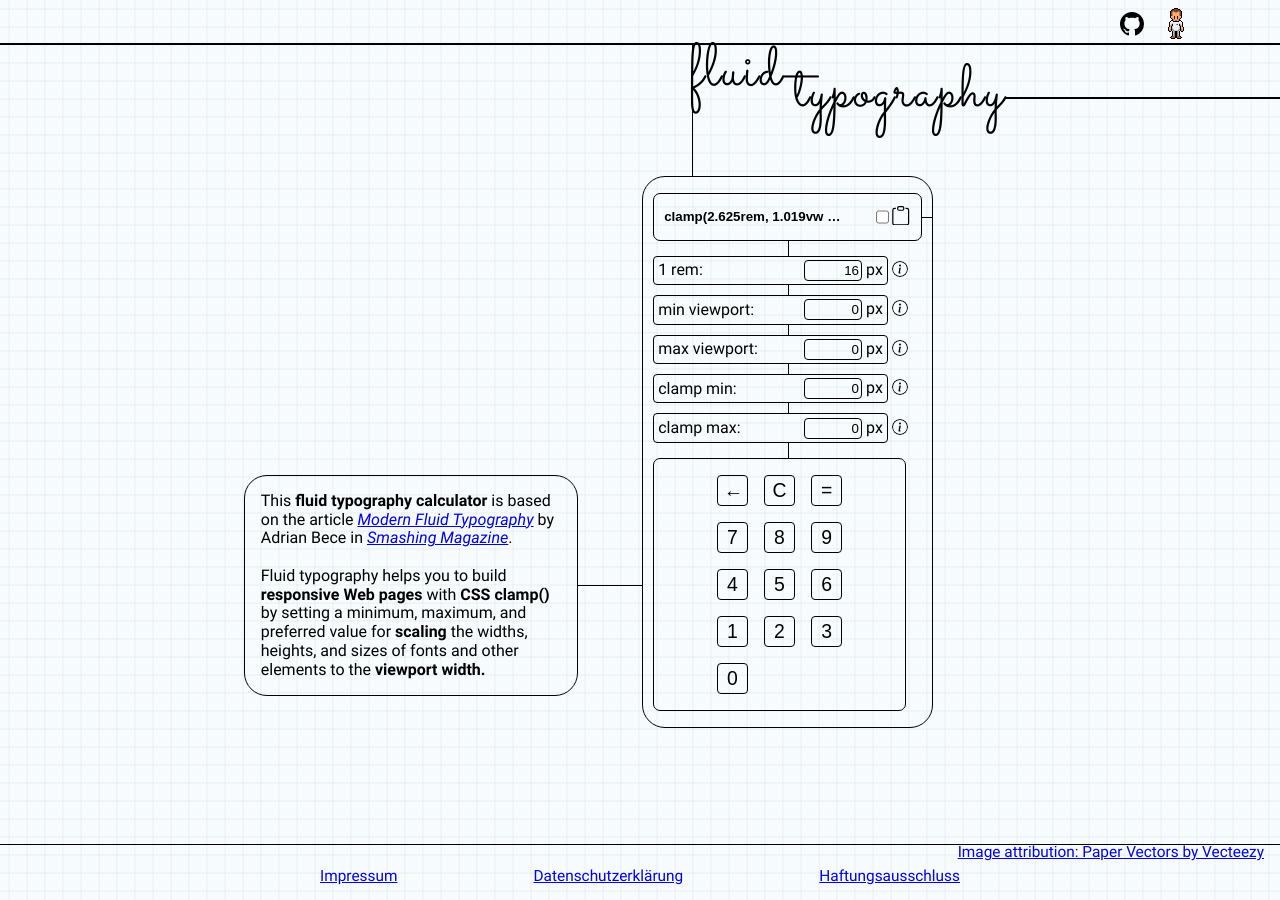
it: tests ResultDisplay component › tests that the result displayed is correct when equals button is clicked
In the field labelled "min viewport:": (833, 310) top-left (804, 299), bottom-right (862, 320), type "375"
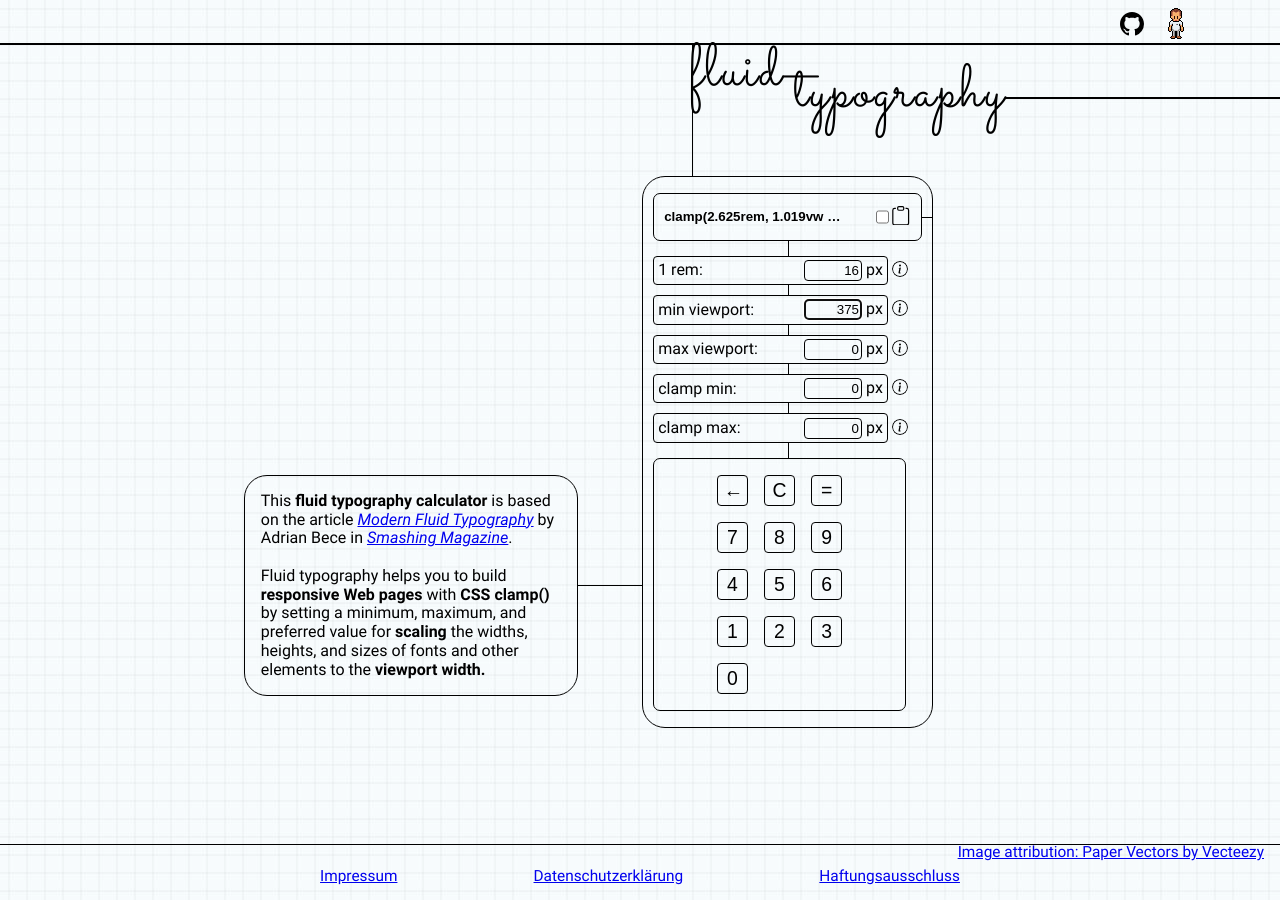
In the field labelled "max viewport:": (833, 349) top-left (804, 339), bottom-right (862, 360), type "1440"
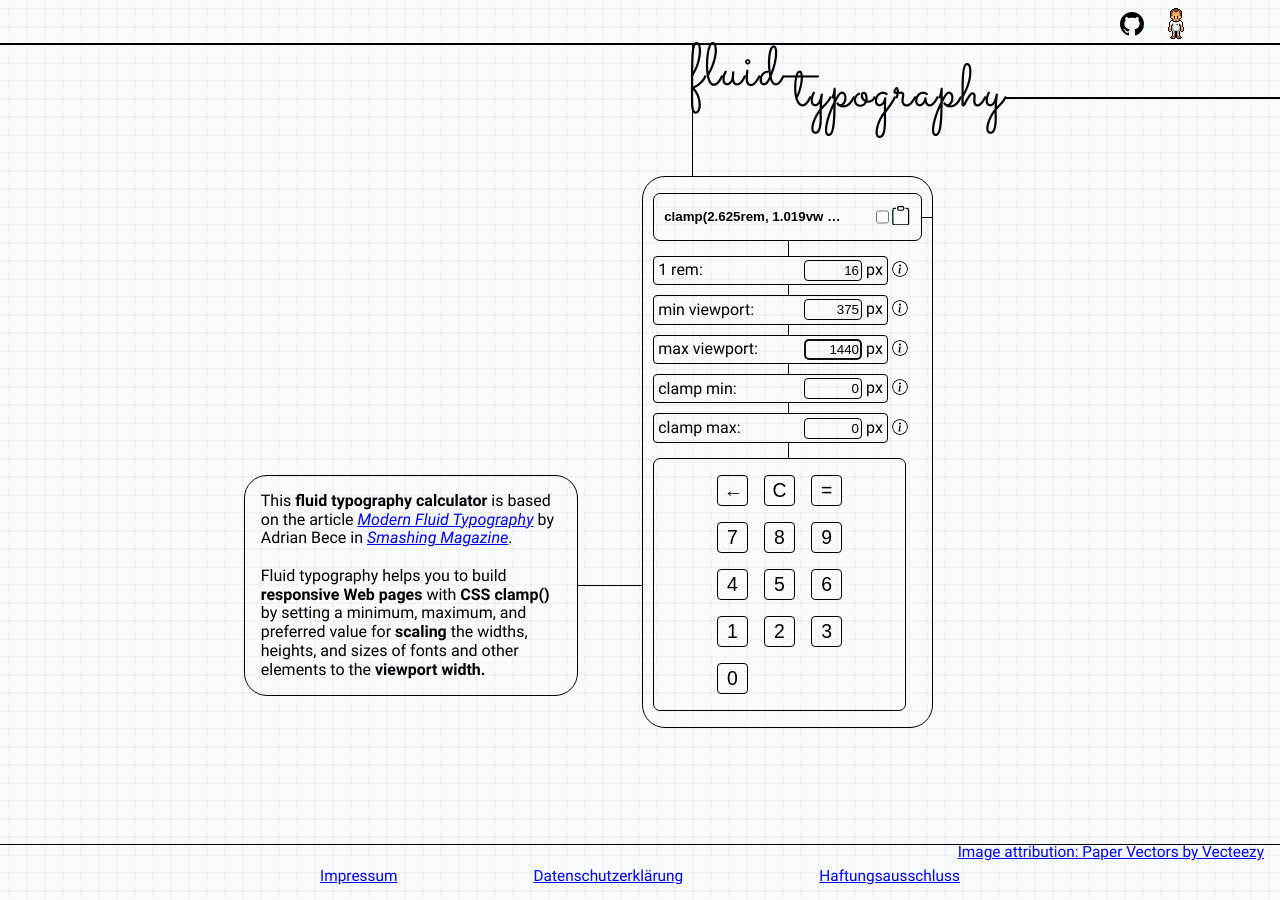
In the field labelled "clamp min:": (833, 389) top-left (804, 378), bottom-right (862, 399), type "16"
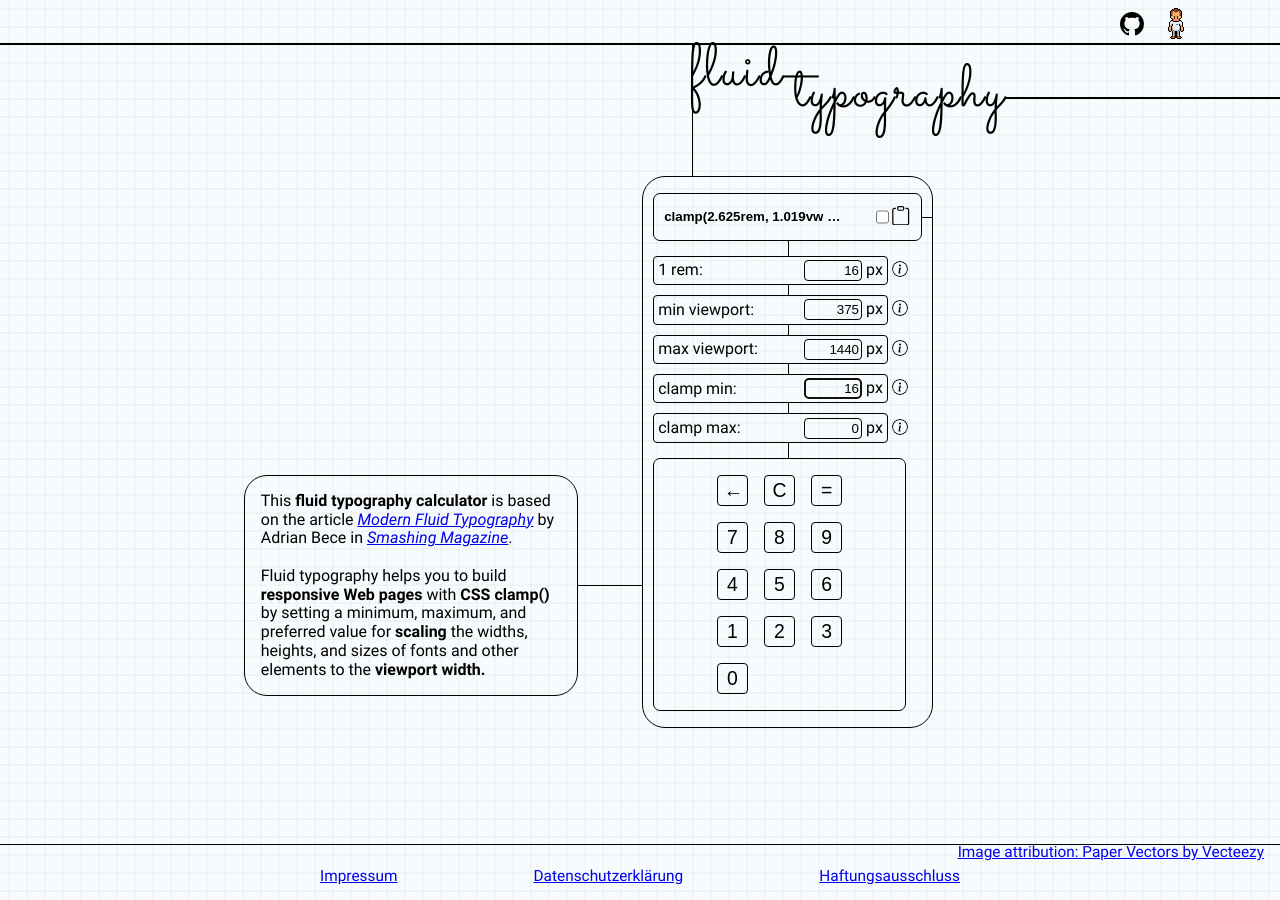
In the field labelled "clamp max:": (833, 428) top-left (804, 418), bottom-right (862, 439), type "24"
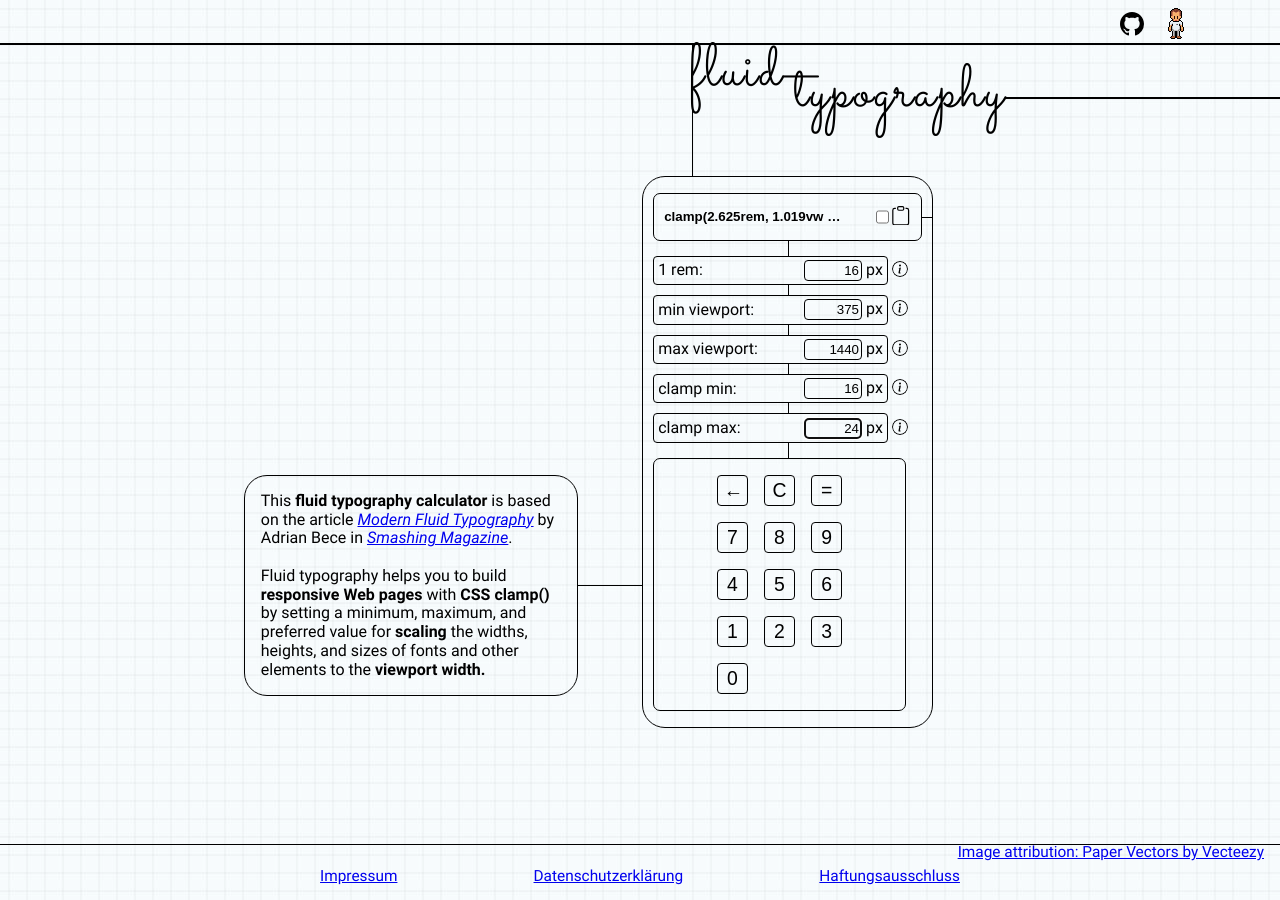
// click equals
Click the button with test id "keypadButton" showing "=": (827, 490) top-left (811, 475), bottom-right (842, 506)
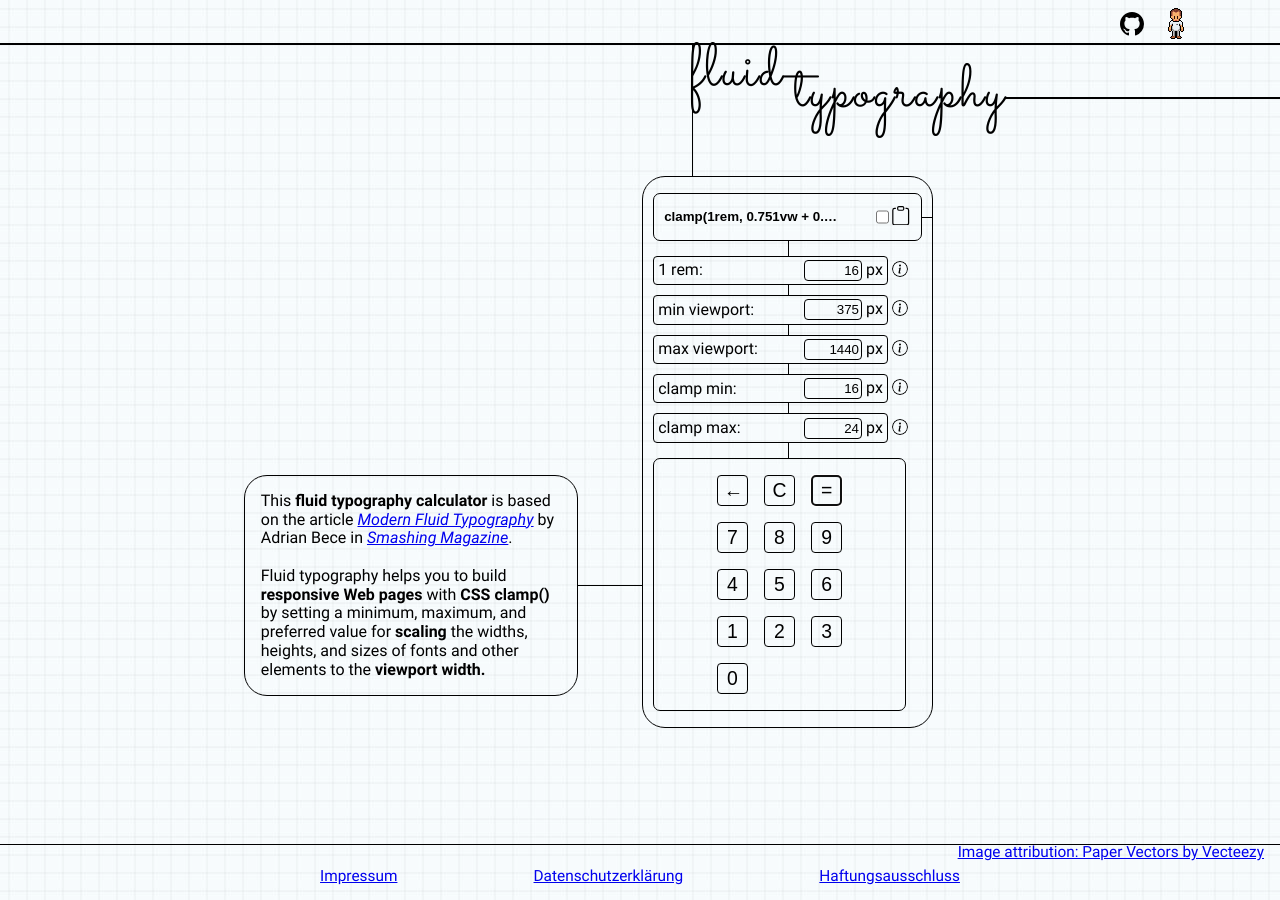
Now the field named "result: clamp(1rem, 0.751vw + 0.824rem, 1.5rem)" holds "clamp(1rem, 0.751vw + 0.824rem, 1.5rem)", box top-left (662, 208), bottom-right (845, 225)
